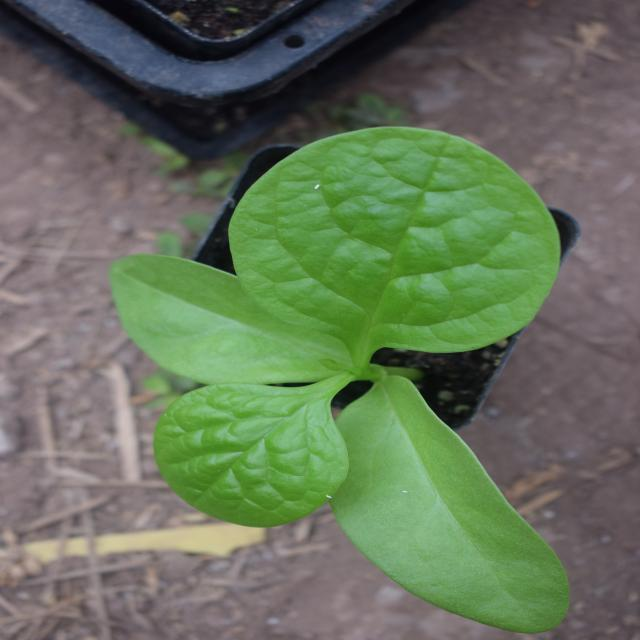Ceylon spinach: (26, 160, 508, 566)
